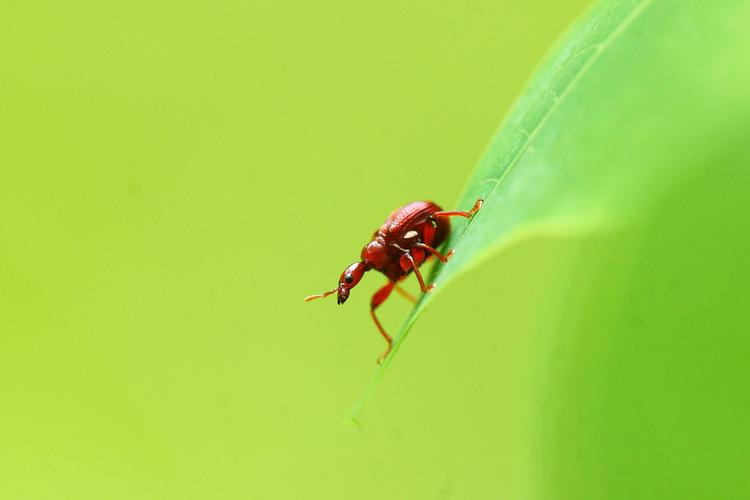Curculionidae: (303, 197, 483, 363)
